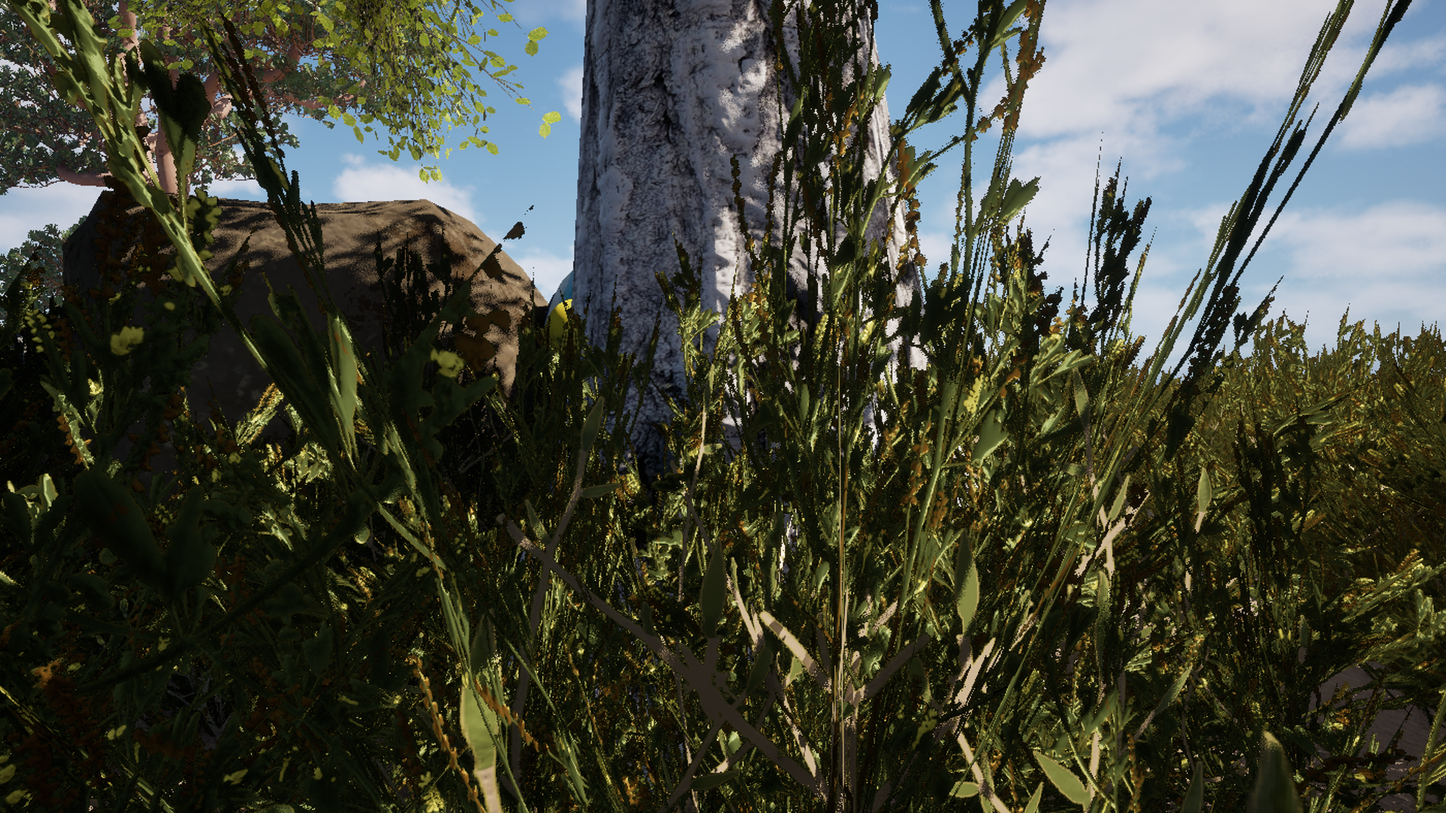Piplup: (265, 68, 1143, 745)
